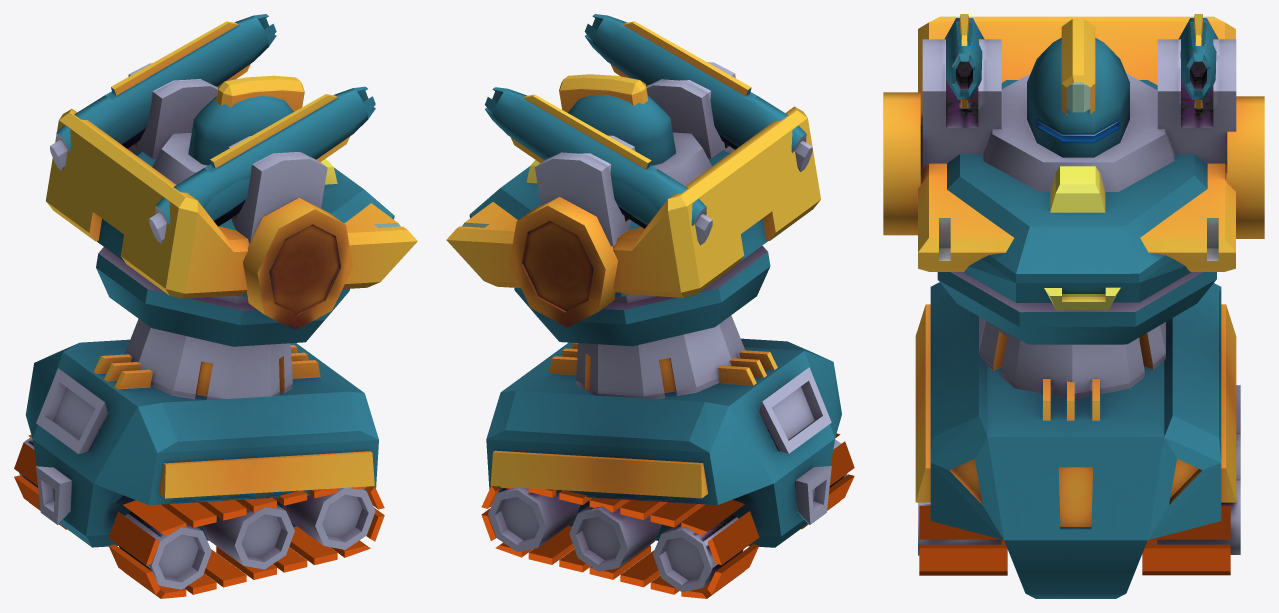
Rendered from Player_Move10.obj.
The picture shows the model from 3 angles, left to right: view 1: azimuth 30°, elevation 25°; view 2: azimuth 150°, elevation 25°; view 3: azimuth 270°, elevation 25°; orthographic projection. The views are drawn at different scales.
Parts seen in each view (by area): view 1: Object004, Object014, Box009, Box017, Box016; view 2: Object004, Object014, Box009, Box016, Box017; view 3: Object004, Object014, Box017, Box016, Box009.
Boxes of the visible parts, x1=… form: Object004: x1=25, y1=63, x2=417, y2=547; Object014: x1=50, y1=14, x2=375, y2=243; Box009: x1=19, y1=437, x2=375, y2=589; Box017: x1=108, y1=486, x2=384, y2=598; Box016: x1=14, y1=435, x2=67, y2=529; Object004: x1=446, y1=62, x2=841, y2=547; Object014: x1=485, y1=14, x2=812, y2=245; Box009: x1=488, y1=439, x2=847, y2=592; Box016: x1=481, y1=486, x2=759, y2=598; Box017: x1=801, y1=433, x2=854, y2=529; Object004: x1=883, y1=16, x2=1264, y2=598; Object014: x1=944, y1=14, x2=1218, y2=108; Box017: x1=919, y1=505, x2=1007, y2=575; Box016: x1=1142, y1=505, x2=1230, y2=575; Box009: x1=918, y1=385, x2=1240, y2=555.
Bounding box in the file's own units: 60.24 × 83.64 × 52.49.
